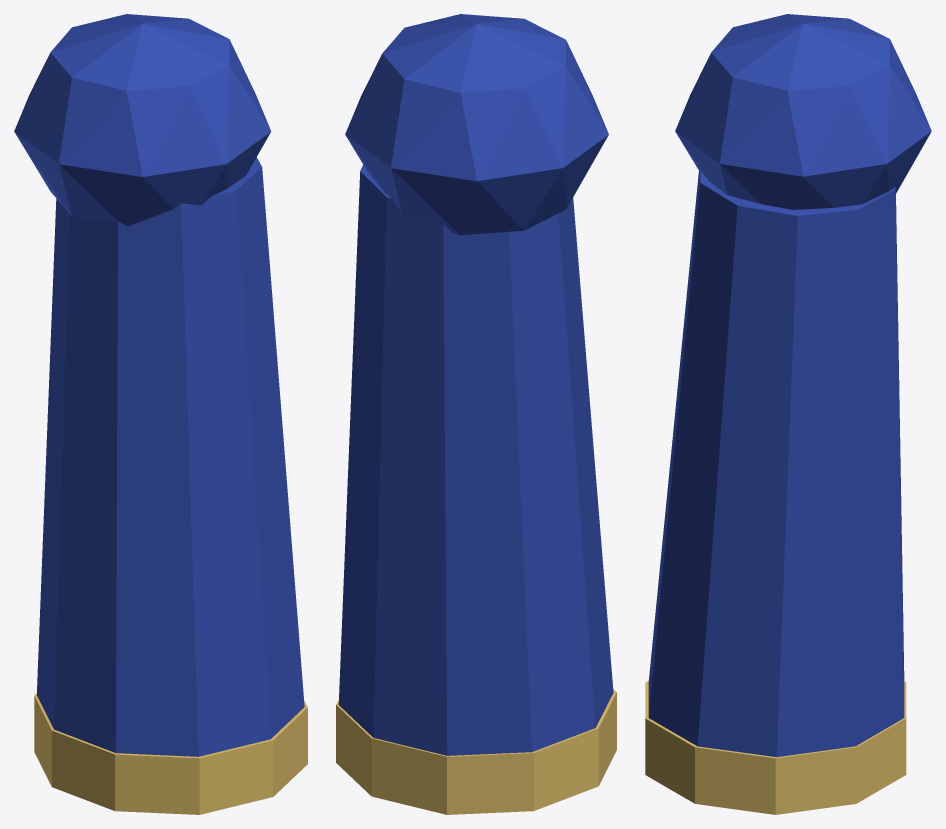
The model's file is gear_wizard_robe_arm_r.glb.
3 renders of one model, left to right at view 1: azimuth 30°, elevation 25°; view 2: azimuth 150°, elevation 25°; view 3: azimuth 270°, elevation 25°, orthographic. The views are drawn at different scales.
Visible parts, largest first — view 1: gear_wizard_robe_arm_r; view 2: gear_wizard_robe_arm_r; view 3: gear_wizard_robe_arm_r.
Boxes of the visible parts, x1,y1,x2,y2 form: gear_wizard_robe_arm_r: [14, 14, 307, 814]; gear_wizard_robe_arm_r: [336, 14, 616, 814]; gear_wizard_robe_arm_r: [645, 14, 931, 814].
Bounding box in the file's own units: 0.1993 × 0.578 × 0.2067.
